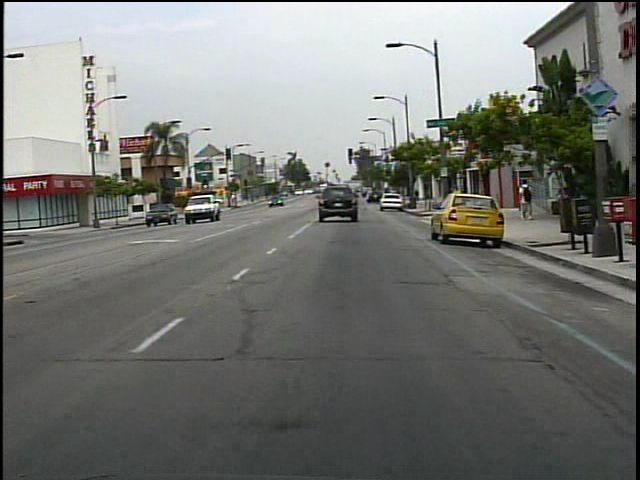person: (513, 173, 539, 223)
